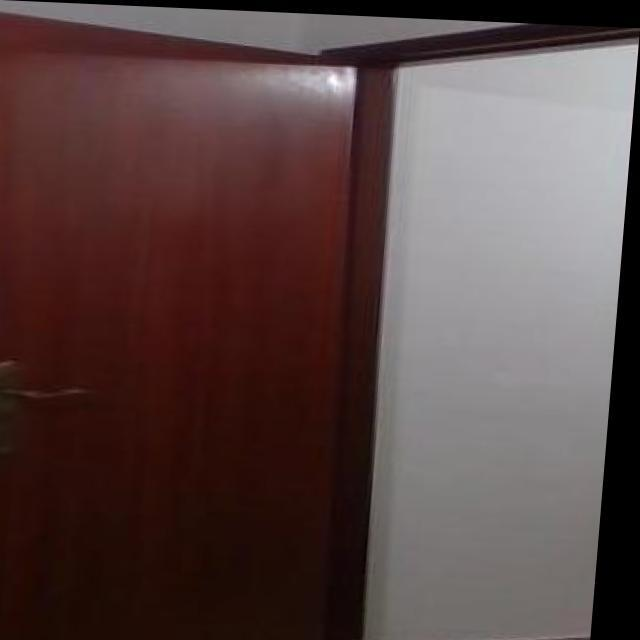door_handle: (0, 375, 113, 411)
